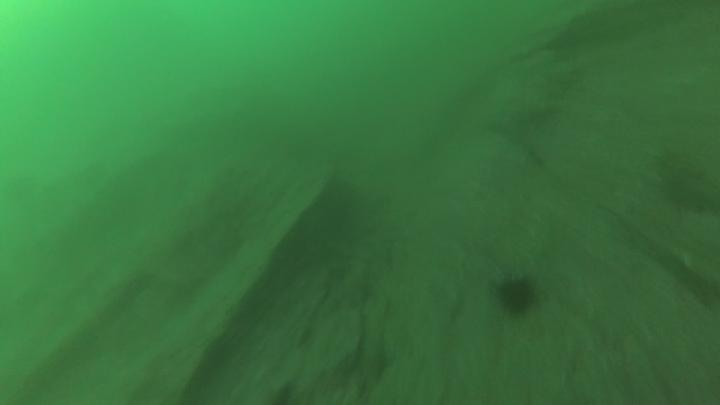echinus: (487, 268, 544, 323)
